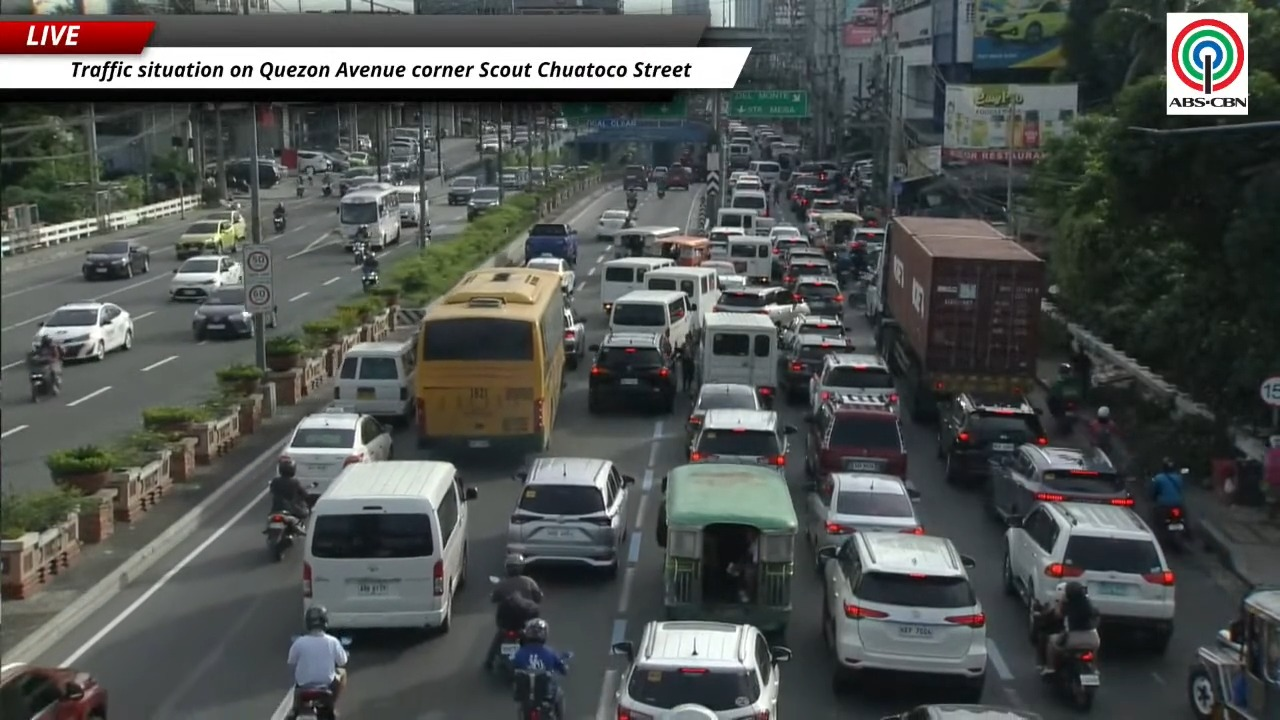bus: (415, 268, 564, 452), (339, 184, 401, 250)
car: (819, 532, 987, 701), (1002, 503, 1175, 653), (611, 621, 791, 719), (506, 457, 633, 575), (987, 443, 1133, 519), (281, 403, 393, 499), (938, 392, 1048, 482), (805, 473, 922, 552), (805, 395, 907, 483), (588, 332, 677, 413), (689, 409, 796, 472), (0, 663, 108, 719), (33, 302, 133, 360), (778, 333, 853, 403), (809, 352, 897, 411), (686, 383, 762, 441), (981, 0, 1067, 44), (712, 286, 808, 325), (192, 285, 253, 341), (169, 255, 242, 300), (82, 240, 149, 280), (881, 703, 1043, 719), (175, 219, 237, 260), (525, 254, 575, 295), (782, 252, 834, 291), (793, 275, 842, 315), (780, 314, 849, 341), (203, 208, 246, 242), (563, 306, 586, 368), (775, 237, 826, 262), (338, 163, 376, 195), (467, 186, 501, 221), (597, 209, 632, 241), (447, 176, 478, 205), (296, 150, 331, 174), (851, 227, 885, 247), (623, 165, 648, 190), (666, 165, 691, 189), (769, 224, 802, 241), (326, 151, 348, 172), (717, 275, 747, 290), (476, 135, 500, 153), (500, 172, 523, 190), (347, 150, 369, 166), (650, 166, 669, 184), (551, 118, 568, 130)
motorcycle: (1042, 649, 1099, 711), (513, 671, 564, 719), (264, 513, 298, 561), (1153, 506, 1188, 551), (290, 687, 336, 719), (1154, 506, 1186, 551), (492, 630, 519, 681), (492, 631, 519, 681), (1050, 399, 1078, 434), (28, 364, 53, 402), (1089, 421, 1113, 454), (361, 270, 379, 293), (352, 242, 369, 265), (273, 216, 285, 233), (626, 197, 637, 212), (321, 183, 332, 197), (296, 184, 304, 197), (656, 188, 665, 198)
truck: (874, 216, 1045, 421), (525, 223, 578, 265)
